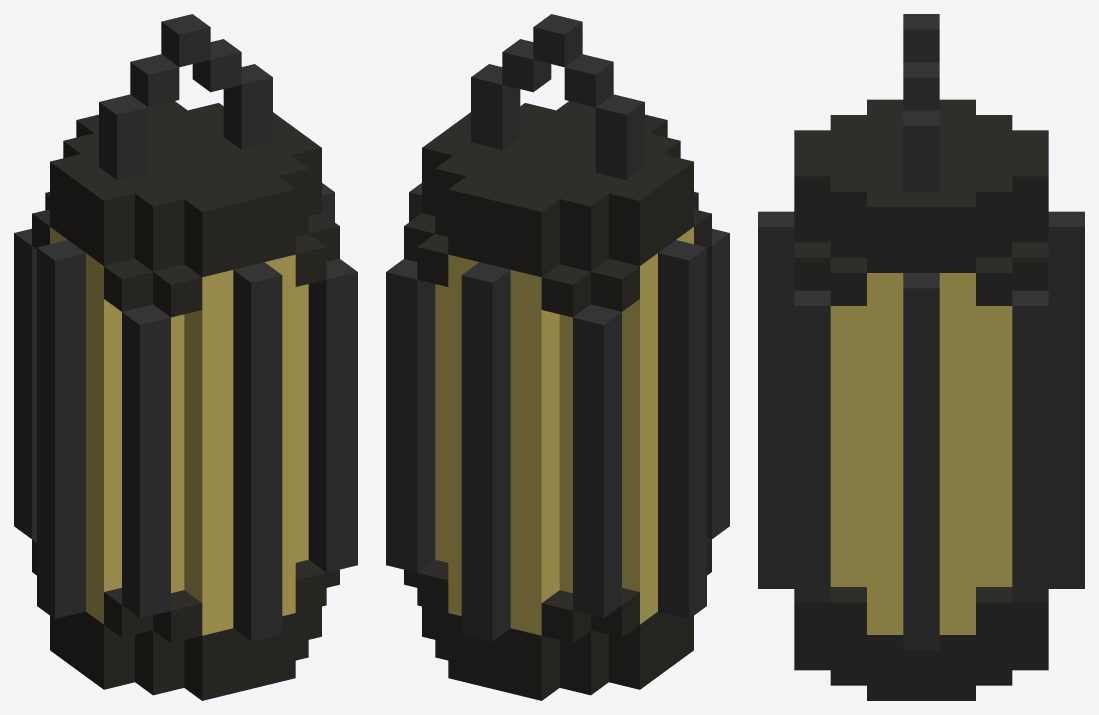
Rendered from Lantern1.obj.
The picture shows the model from 3 angles, left to right: view 1: azimuth 30°, elevation 25°; view 2: azimuth 150°, elevation 25°; view 3: azimuth 270°, elevation 25°; orthographic projection.
Bounding box in the file's own units: 0.9 × 1.9 × 0.9.
1 material, 1 textured.
